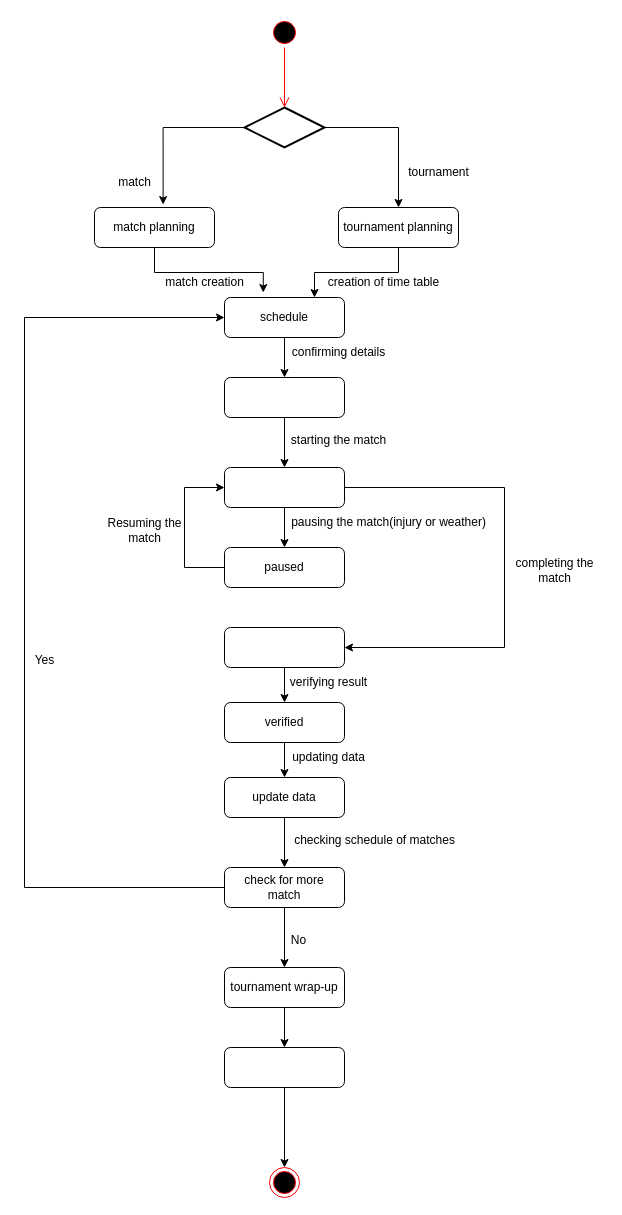
This 622x1215 diagram has some shape labels left out. Each missing label, with the centre of its shape:
Archived: pixel 284 1067
completed: pixel 284 647
InProgress: pixel 284 487
pending: pixel 284 397
